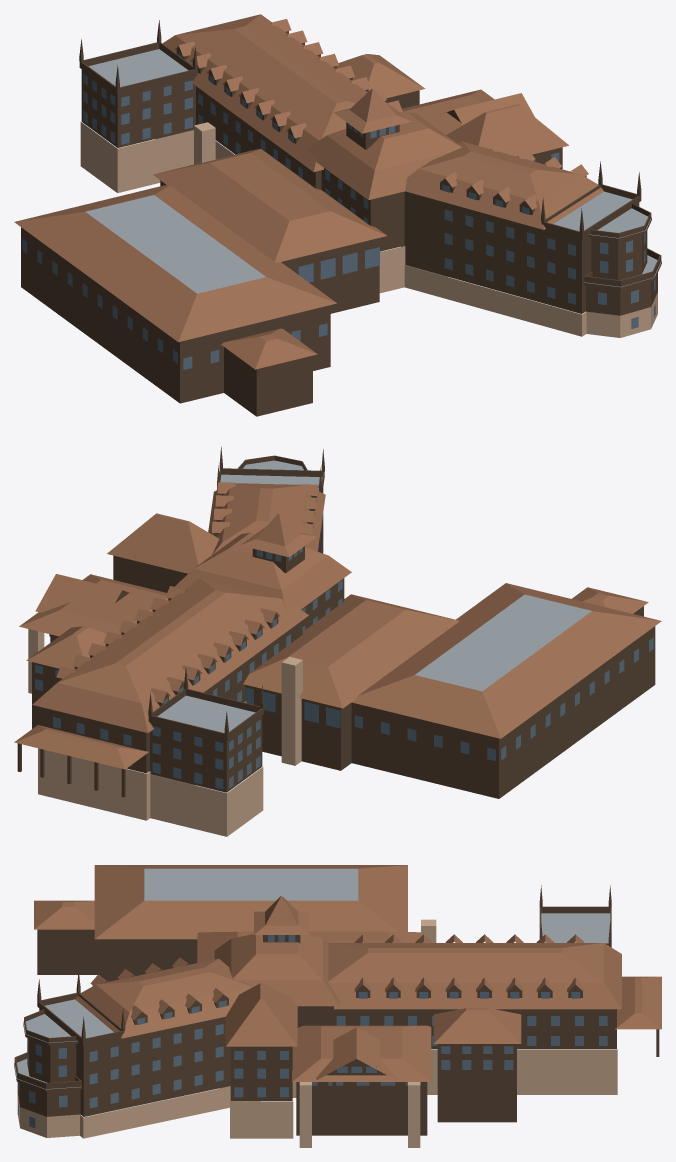
Rendered from grand-canyon-el-tovar.glb.
3 renders of one model, top to bottom at view 1: azimuth 30°, elevation 25°; view 2: azimuth 150°, elevation 25°; view 3: azimuth 270°, elevation 25°, orthographic. The views are drawn at different scales.
Parts seen in each view (by area): view 1: El Tovar Hotel; view 2: El Tovar Hotel; view 3: El Tovar Hotel.
Part boxes in pixels (x1,y1,x2,y2): El Tovar Hotel: [14, 14, 661, 416]; El Tovar Hotel: [14, 446, 661, 836]; El Tovar Hotel: [14, 865, 661, 1147].
Size of the model in its own units: 76.7 by 26.6 by 93.88.
